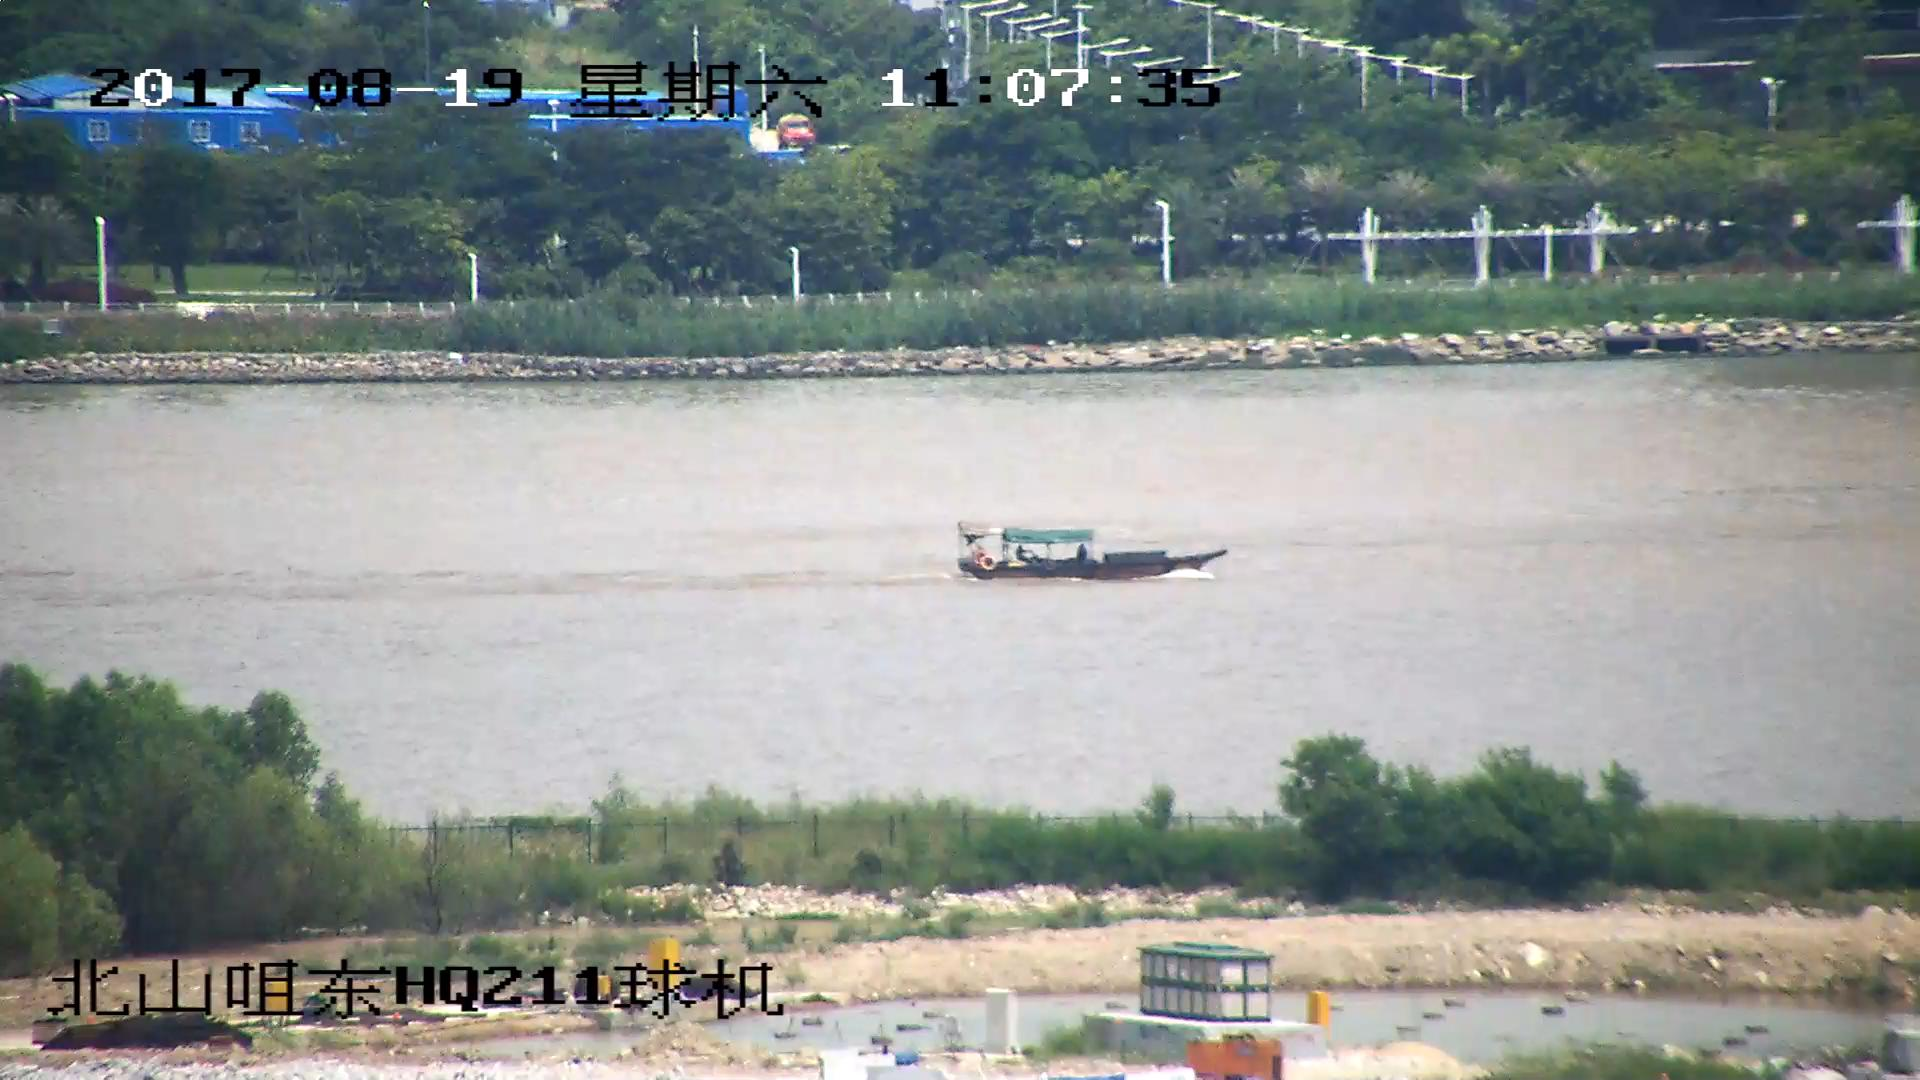fishing boat: (952, 520, 1234, 582)
